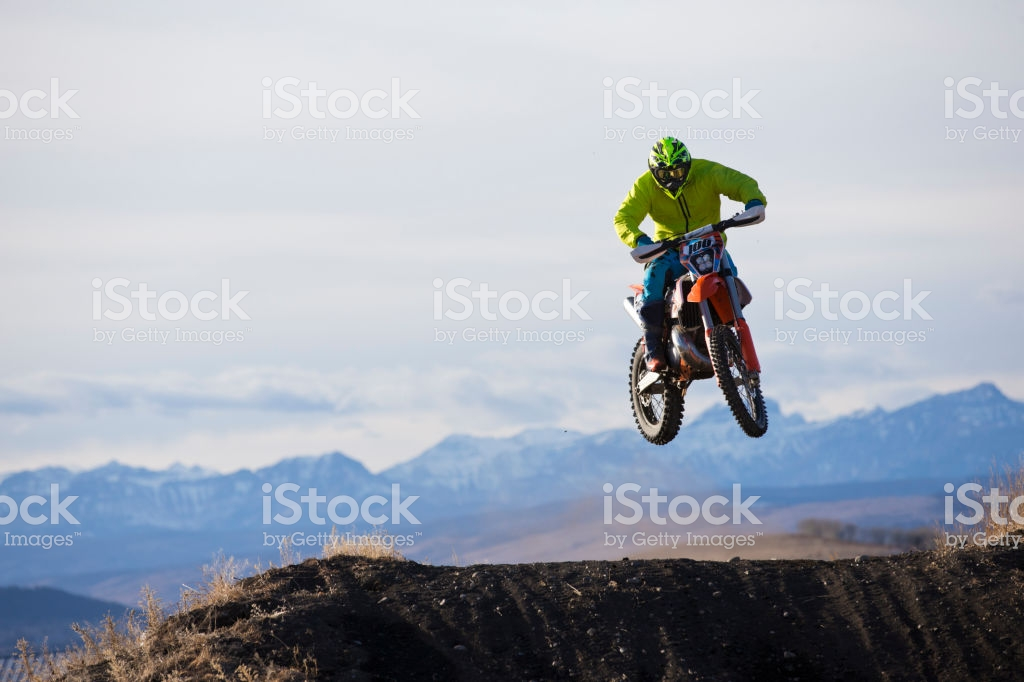helmet: (646, 136, 688, 191)
